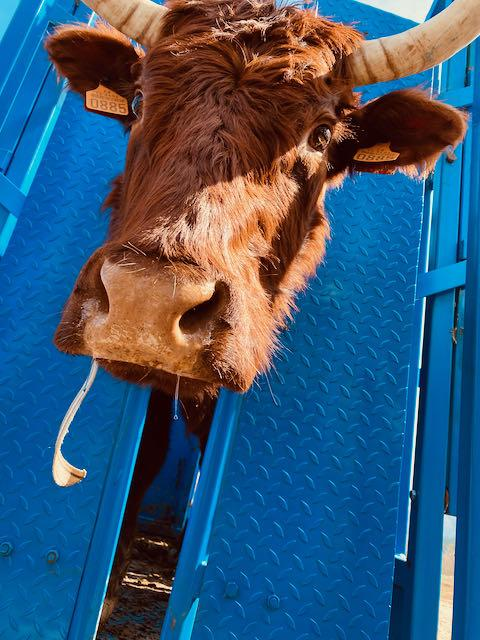muzzles: (52, 231, 259, 403)
